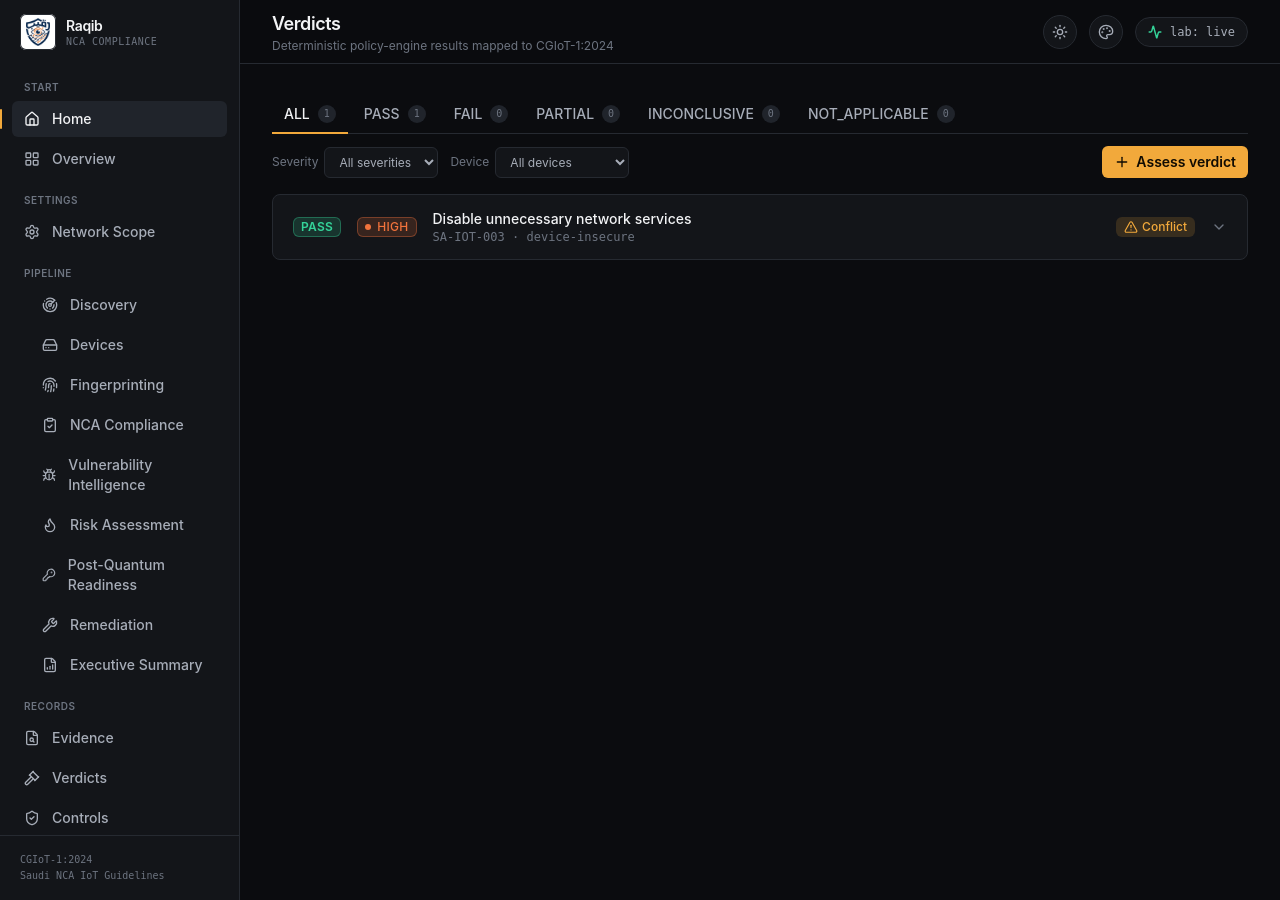
Test case: VerdictsPage › shows a conflict indicator and the policy version in an expanded verdict
The width and height of the screenshot is (1280, 900).
Expected: the text "Conflict" is shown, x1=1116 y1=217 x2=1195 y2=237
Click the button "Disable unnecessary network services" at (317, 227), box x1=273 y1=195 x2=1247 y2=259
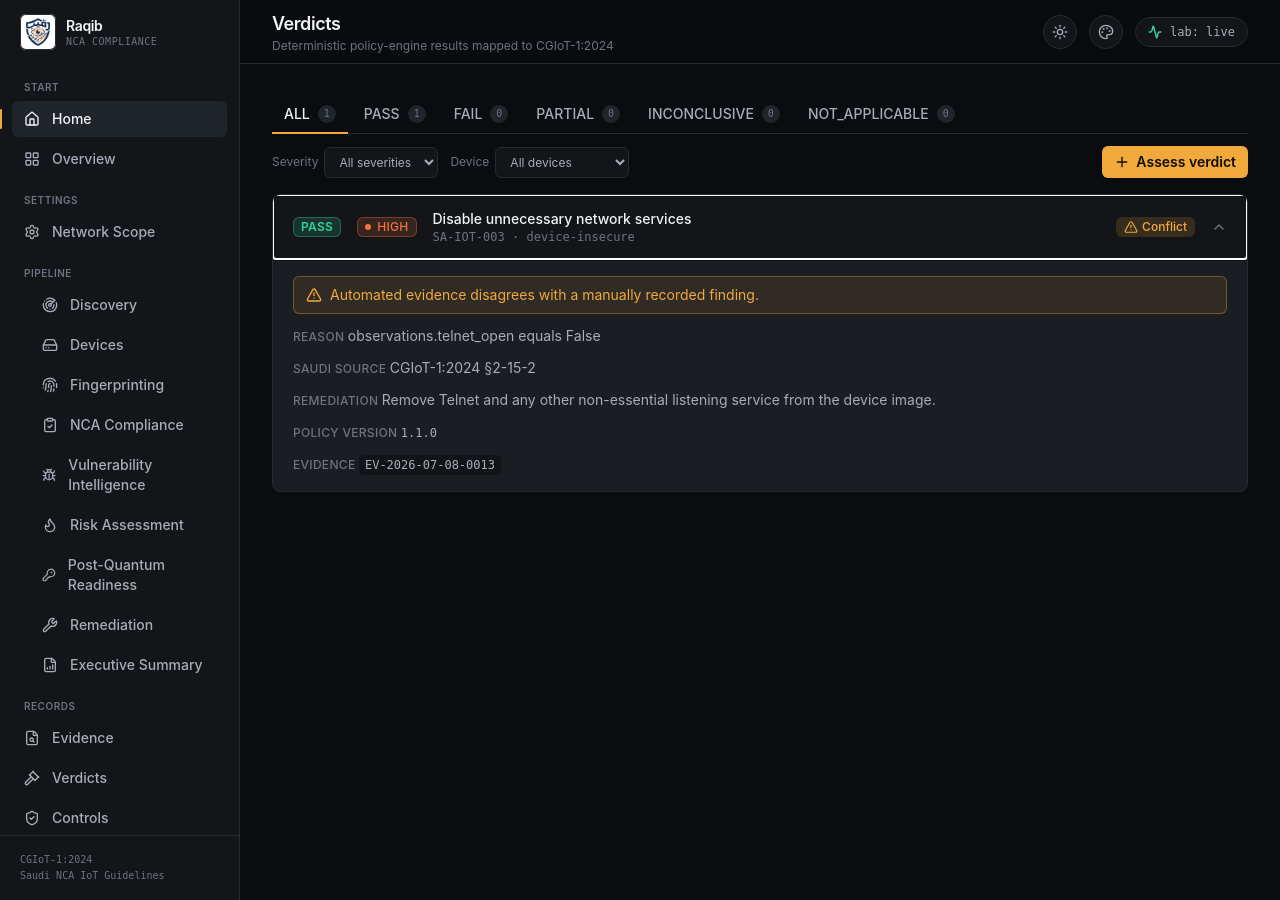
Expected: the text "Automated evidence disagrees with a manually recorded finding." is shown, x1=330 y1=285 x2=759 y2=305
Expected: the text "1.1.0" is shown, x1=401 y1=426 x2=437 y2=440
